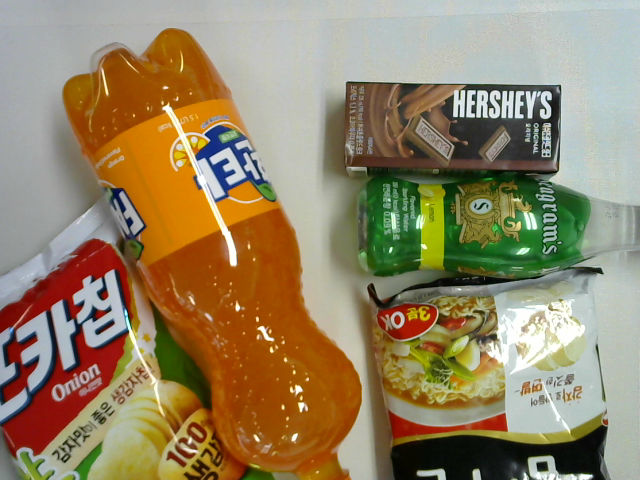Hush_Choco_Drink: (341, 78, 566, 177)
Hwanta_Orange_1.5L: (59, 27, 363, 480)
Pocachip_Onion: (1, 191, 283, 480)
Potato: (367, 266, 614, 480)
Seagram_Lemon_Carbonated_Water: (356, 169, 640, 282)
